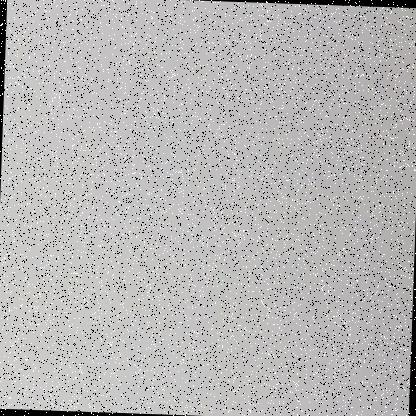Nocrack: (4, 0, 415, 388)
